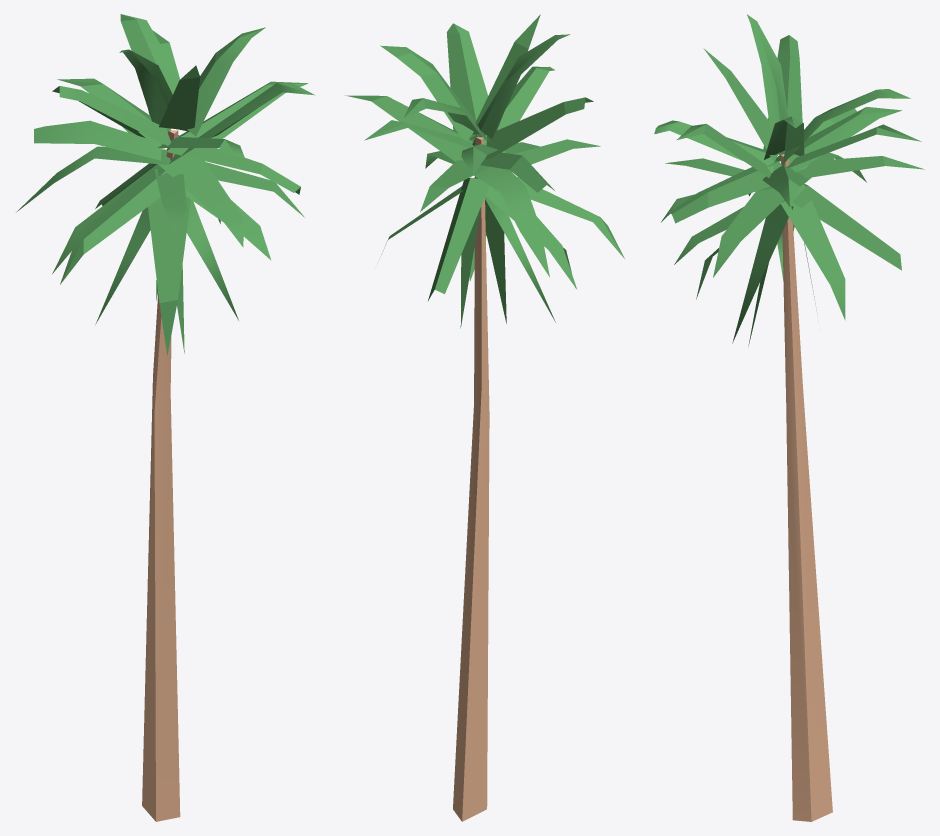
File: tree_palm_coco_D_LOD2.fbx
3 renders of one model, left to right at view 1: azimuth 30°, elevation 25°; view 2: azimuth 150°, elevation 25°; view 3: azimuth 270°, elevation 25°, orthographic. The views are drawn at different scales.
Visible parts, largest first — view 1: trunk_coco_D, leaf_cocotree_D_31, leaf_cocotree_D_22, leaf_cocotree_D_16, leaf_cocotree_D_24, leaf_cocotree_D_6, leaf_cocotree_D_32, leaf_cocotree_D_5, leaf_cocotree_D_1, leaf_cocotree_D_3, leaf_cocotree_D_33, leaf_cocotree_D_17 (+10 smaller); view 2: trunk_coco_D, leaf_cocotree_D_7, leaf_cocotree_D_34, leaf_cocotree_D_17, leaf_cocotree_D_11, leaf_cocotree_D_32, leaf_cocotree_D_6, leaf_cocotree_D_1, leaf_cocotree_D_8, leaf_cocotree_D_30, leaf_cocotree_D_22, leaf_cocotree_D_16 (+9 smaller); view 3: trunk_coco_D, leaf_cocotree_D_20, leaf_cocotree_D_34, leaf_cocotree_D_33, leaf_cocotree_D_25, leaf_cocotree_D_1, leaf_cocotree_D_12, leaf_cocotree_D_28, leaf_cocotree_D_32, leaf_cocotree_D_13, leaf_cocotree_D_3, leaf_cocotree_D_6 (+7 smaller).
Part boxes in pixels (left/top/right/bottom): trunk_coco_D: left=142, top=130, right=180, bottom=821; leaf_cocotree_D_31: left=148, top=196, right=190, bottom=355; leaf_cocotree_D_22: left=60, top=166, right=167, bottom=284; leaf_cocotree_D_16: left=34, top=120, right=162, bottom=160; leaf_cocotree_D_24: left=159, top=156, right=243, bottom=247; leaf_cocotree_D_6: left=187, top=27, right=265, bottom=135; leaf_cocotree_D_32: left=52, top=86, right=173, bottom=148; leaf_cocotree_D_5: left=120, top=14, right=178, bottom=131; leaf_cocotree_D_1: left=119, top=49, right=172, bottom=124; leaf_cocotree_D_3: left=159, top=65, right=200, bottom=131; leaf_cocotree_D_33: left=167, top=136, right=300, bottom=194; leaf_cocotree_D_17: left=16, top=146, right=170, bottom=212; trunk_coco_D: left=453, top=137, right=489, bottom=821; leaf_cocotree_D_7: left=446, top=23, right=505, bottom=152; leaf_cocotree_D_34: left=428, top=177, right=489, bottom=300; leaf_cocotree_D_17: left=474, top=167, right=549, bottom=277; leaf_cocotree_D_11: left=344, top=95, right=474, bottom=161; leaf_cocotree_D_32: left=486, top=97, right=593, bottom=159; leaf_cocotree_D_6: left=380, top=45, right=476, bottom=140; leaf_cocotree_D_1: left=478, top=34, right=570, bottom=138; leaf_cocotree_D_8: left=470, top=66, right=554, bottom=139; leaf_cocotree_D_30: left=485, top=199, right=506, bottom=323; leaf_cocotree_D_22: left=517, top=177, right=624, bottom=258; leaf_cocotree_D_16: left=480, top=152, right=554, bottom=192; trunk_coco_D: left=780, top=154, right=832, bottom=821; leaf_cocotree_D_20: left=781, top=184, right=845, bottom=320; leaf_cocotree_D_34: left=792, top=184, right=901, bottom=270; leaf_cocotree_D_33: left=668, top=160, right=781, bottom=223; leaf_cocotree_D_25: left=713, top=188, right=784, bottom=277; leaf_cocotree_D_1: left=747, top=14, right=788, bottom=135; leaf_cocotree_D_12: left=778, top=107, right=902, bottom=172; leaf_cocotree_D_28: left=732, top=204, right=793, bottom=343; leaf_cocotree_D_32: left=763, top=35, right=802, bottom=150; leaf_cocotree_D_13: left=792, top=156, right=924, bottom=178; leaf_cocotree_D_3: left=703, top=48, right=778, bottom=162; leaf_cocotree_D_6: left=764, top=116, right=804, bottom=159.
Size of the model in its own units: 433 by 1224 by 393.
